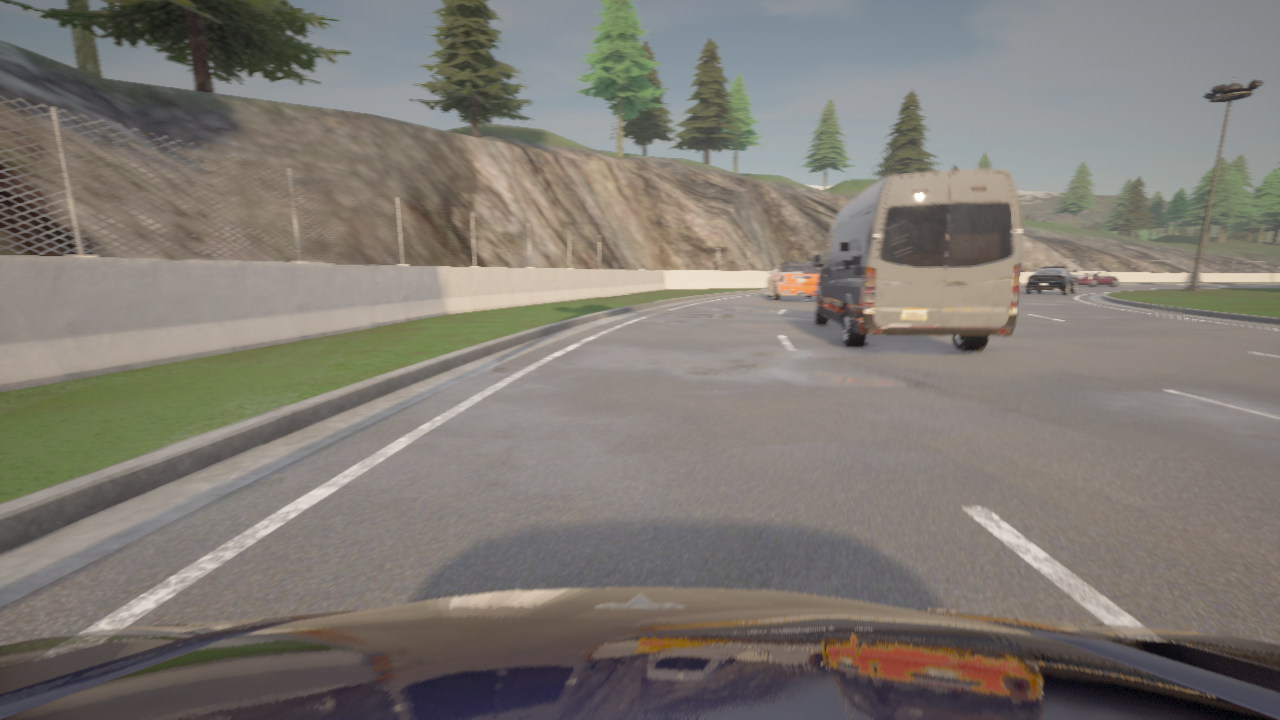cyclist: (0, 588, 1279, 719), (812, 170, 1022, 352), (767, 261, 819, 300), (1026, 266, 1077, 294), (1076, 271, 1118, 286)
